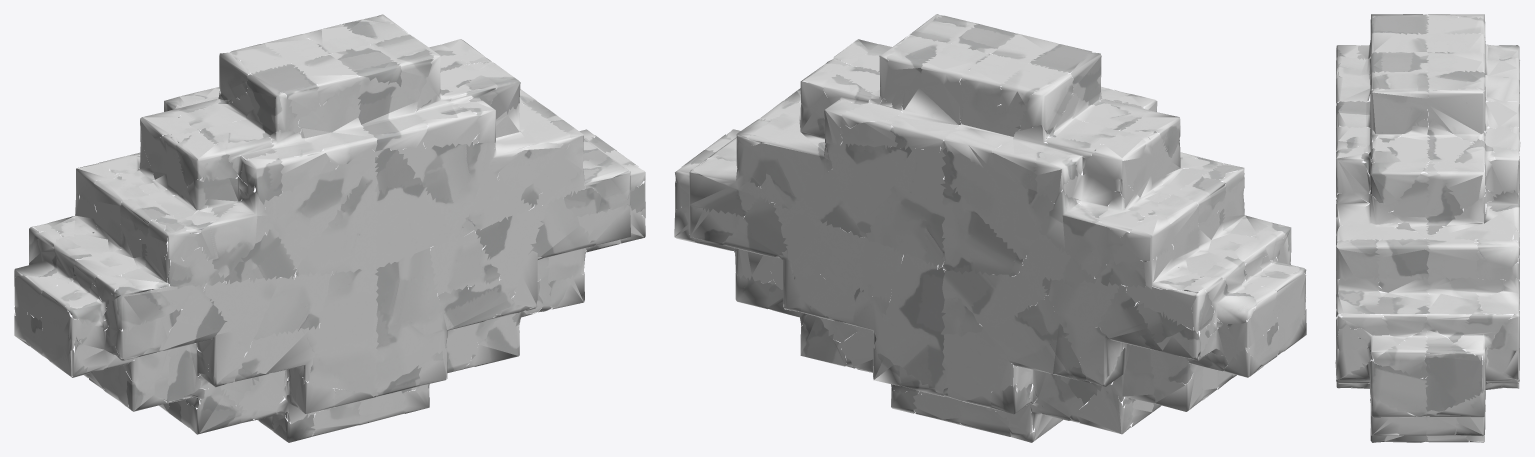
Rendered from nube6.glb.
3 views of the same model, side by side, from view 1: azimuth 30°, elevation 25°; view 2: azimuth 150°, elevation 25°; view 3: azimuth 270°, elevation 25° (orthographic). The views are drawn at different scales.
Parts seen in each view (by area): view 1: Mesh_0.011; view 2: Mesh_0.011; view 3: Mesh_0.011.
Boxes of the visible parts, x1,y1,x2,y2 form: Mesh_0.011: (14,14,645,442); Mesh_0.011: (674,14,1306,442); Mesh_0.011: (1335,14,1520,442).
Size of the model in its own units: 190 by 111 by 54.1.
Materials: 1 (1 with a texture image).
